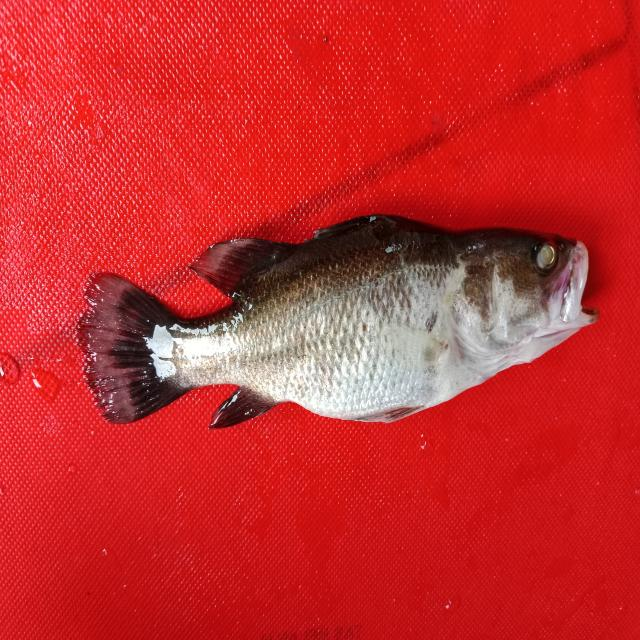ikan: (69, 194, 601, 448)
